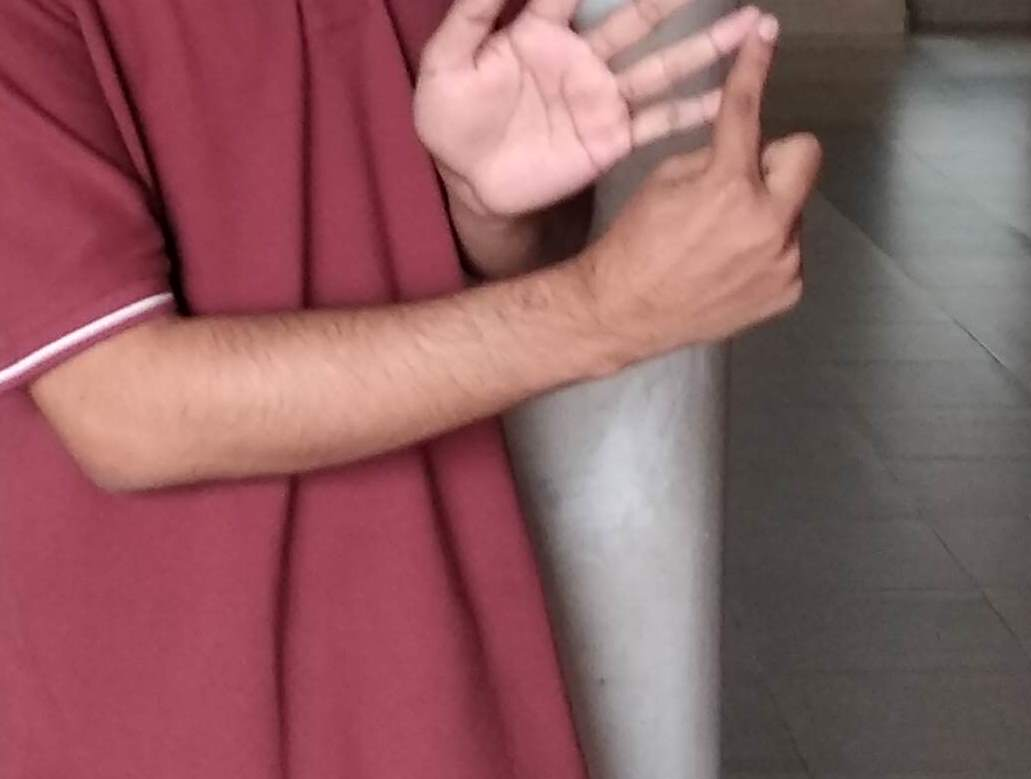e: (451, 1, 808, 277)
